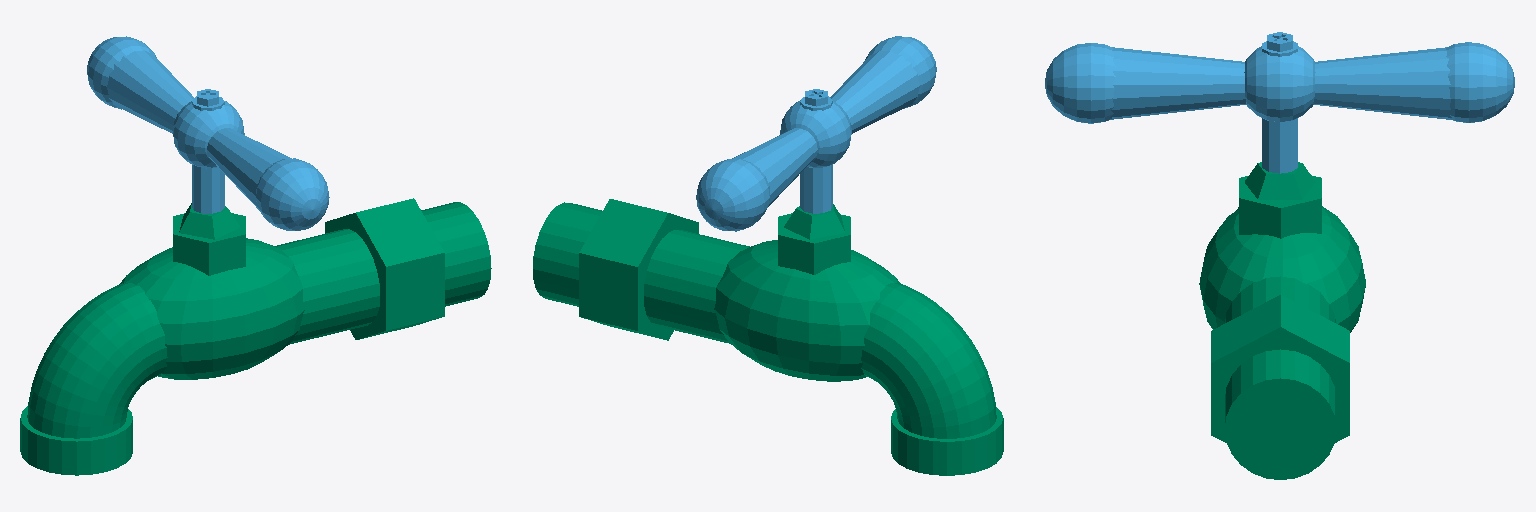
The robot description file, URDF, robot "partnet_86c6af80c470a805eb69804478f9c547":
<?xml version="1.0" ?>
<robot name="partnet_86c6af80c470a805eb69804478f9c547">
	<link name="base"/>
	<link name="object">
		<visual name="switch-2">
			<origin xyz="-0.005884129504668802 0 -0.1234655"/>
			<geometry>
				<mesh filename="textured_objs/original-3.obj"/>
			</geometry>
		</visual>
		<visual name="switch-2">
			<origin xyz="-0.005884129504668802 0 -0.1234655"/>
			<geometry>
				<mesh filename="textured_objs/original-7.obj"/>
			</geometry>
		</visual>
		<visual name="switch-2">
			<origin xyz="-0.005884129504668802 0 -0.1234655"/>
			<geometry>
				<mesh filename="textured_objs/original-4.obj"/>
			</geometry>
		</visual>
		<visual name="switch-2">
			<origin xyz="-0.005884129504668802 0 -0.1234655"/>
			<geometry>
				<mesh filename="textured_objs/original-8.obj"/>
			</geometry>
		</visual>
		<visual name="switch-2">
			<origin xyz="-0.005884129504668802 0 -0.1234655"/>
			<geometry>
				<mesh filename="textured_objs/original-5.obj"/>
			</geometry>
		</visual>
		<collision>
			<origin xyz="-0.005884129504668802 0 -0.1234655"/>
			<geometry>
				<mesh filename="textured_objs/original-3.obj"/>
			</geometry>
		</collision>
		<collision>
			<origin xyz="-0.005884129504668802 0 -0.1234655"/>
			<geometry>
				<mesh filename="textured_objs/original-7.obj"/>
			</geometry>
		</collision>
		<collision>
			<origin xyz="-0.005884129504668802 0 -0.1234655"/>
			<geometry>
				<mesh filename="textured_objs/original-4.obj"/>
			</geometry>
		</collision>
		<collision>
			<origin xyz="-0.005884129504668802 0 -0.1234655"/>
			<geometry>
				<mesh filename="textured_objs/original-8.obj"/>
			</geometry>
		</collision>
		<collision>
			<origin xyz="-0.005884129504668802 0 -0.1234655"/>
			<geometry>
				<mesh filename="textured_objs/original-5.obj"/>
			</geometry>
		</collision>
	</link>
	<joint name="joint_0" type="revolute">
		<origin xyz="0.005884129504668802 0 0.1234655"/>
		<axis xyz="0 -1 0"/>
		<child link="object"/>
		<parent link="link_1"/>
		<limit lower="0.0" upper="6.28"/>
	</joint>
	<link name="link_1">
		<visual name="connector-8">
			<origin xyz="0 0 0"/>
			<geometry>
				<mesh filename="textured_objs/original-9.obj"/>
			</geometry>
		</visual>
		<visual name="vertical_support-9">
			<origin xyz="0 0 0"/>
			<geometry>
				<mesh filename="textured_objs/original-11.obj"/>
			</geometry>
		</visual>
		<visual name="vertical_support-9">
			<origin xyz="0 0 0"/>
			<geometry>
				<mesh filename="textured_objs/original-12.obj"/>
			</geometry>
		</visual>
		<visual name="horizontal_support-10">
			<origin xyz="0 0 0"/>
			<geometry>
				<mesh filename="textured_objs/original-10.obj"/>
			</geometry>
		</visual>
		<visual name="tube-5">
			<origin xyz="0 0 0"/>
			<geometry>
				<mesh filename="textured_objs/original-13.obj"/>
			</geometry>
		</visual>
		<visual name="mouth-6">
			<origin xyz="0 0 0"/>
			<geometry>
				<mesh filename="textured_objs/original-1.obj"/>
			</geometry>
		</visual>
		<collision>
			<origin xyz="0 0 0"/>
			<geometry>
				<mesh filename="textured_objs/original-9.obj"/>
			</geometry>
		</collision>
		<collision>
			<origin xyz="0 0 0"/>
			<geometry>
				<mesh filename="textured_objs/original-11.obj"/>
			</geometry>
		</collision>
		<collision>
			<origin xyz="0 0 0"/>
			<geometry>
				<mesh filename="textured_objs/original-12.obj"/>
			</geometry>
		</collision>
		<collision>
			<origin xyz="0 0 0"/>
			<geometry>
				<mesh filename="textured_objs/original-10.obj"/>
			</geometry>
		</collision>
		<collision>
			<origin xyz="0 0 0"/>
			<geometry>
				<mesh filename="textured_objs/original-13.obj"/>
			</geometry>
		</collision>
		<collision>
			<origin xyz="0 0 0"/>
			<geometry>
				<mesh filename="textured_objs/original-1.obj"/>
			</geometry>
		</collision>
	</link>
	<joint name="joint_1" type="fixed">
		<origin rpy="1.570796326794897 0 -1.570796326794897" xyz="0 0 0"/>
		<child link="link_1"/>
		<parent link="base"/>
	</joint>
</robot>

--- Render facts (derived) ---
3 views of the same robot in one strip: view 1: azimuth 30°, elevation 25°; view 2: azimuth 150°, elevation 25°; view 3: azimuth 270°, elevation 25° (orthographic).
Model partnet_86c6af80c470a805eb69804478f9c547 with 3 links and 2 joints (1 revolute, 1 fixed), rooted at base, posed every joint at zero.
Links seen in each view (by area): view 1: link_1, object; view 2: link_1, object; view 3: link_1, object.
Boxes of the visible links, x1,y1,x2,y2 form: link_1: (20, 198, 491, 475); object: (87, 36, 329, 230); link_1: (533, 199, 1003, 475); object: (696, 36, 936, 231); link_1: (1199, 162, 1365, 479); object: (1045, 32, 1514, 173).
Bounding box of the posed robot: 1.77 × 1.45 × 1.26 m (x, y, z).
11 mesh visuals loaded from 11 distinct referenced files (11 OBJ).